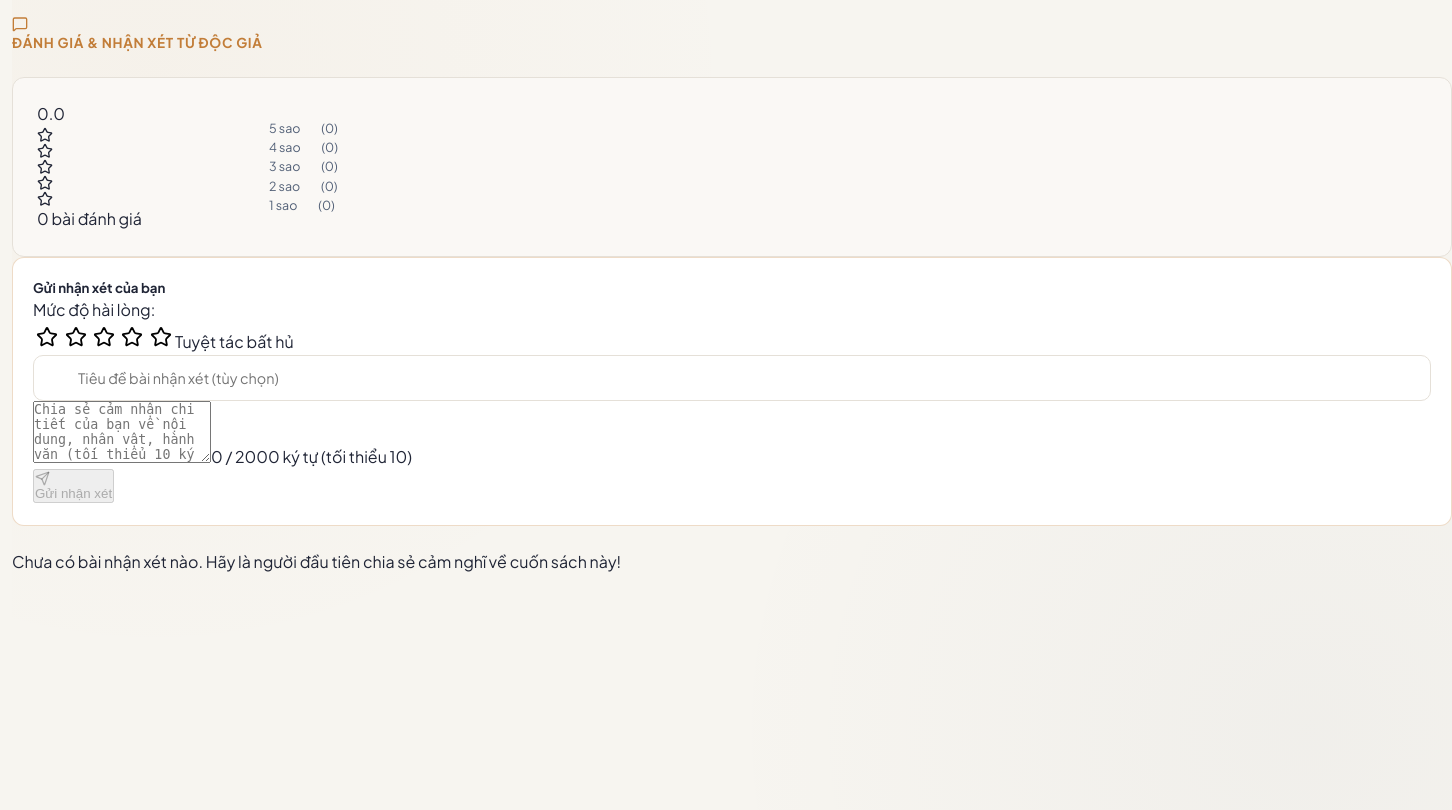
Test case: Phase 5 — Customer Interactions & Inventory Frontend › ReviewSection Component › requires minimum 10 characters for review comment
This screenshot has width=1452, height=810.
Replace the text in the text box with placeholder "Chia sẻ cảm nhận" with "Quá ngắn" at (122, 432), box [33,401,211,463]
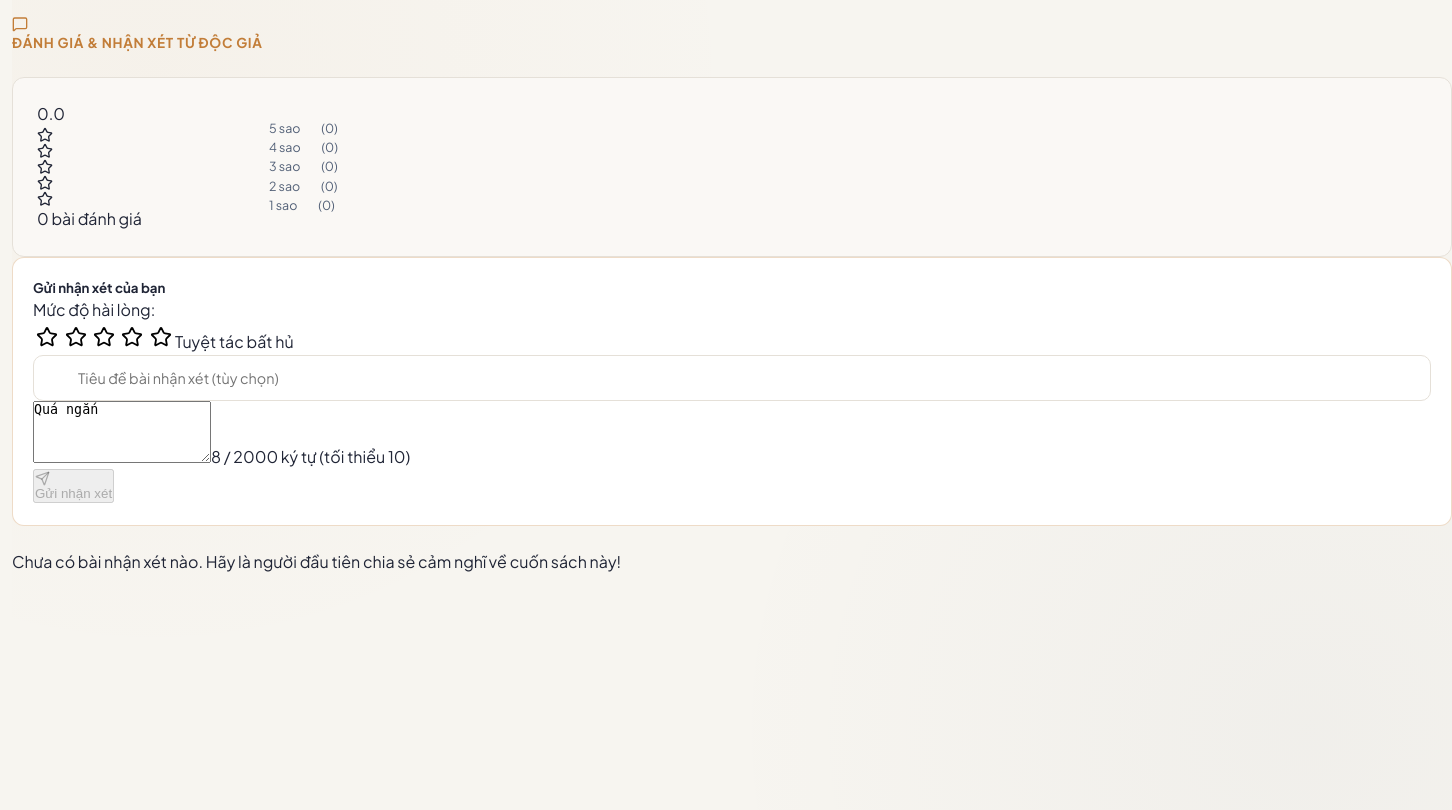
Expected: the button "Gửi nhận xét" is disabled, [33,469,114,503]
# When comment meets the 10-char threshold, button is enabled
Replace the text in the text box with placeholder "Chia sẻ cảm nhận" with "Một tác phẩm văn học rất đáng đọc và suy ngẫm!" at (122, 432), box [33,401,211,463]
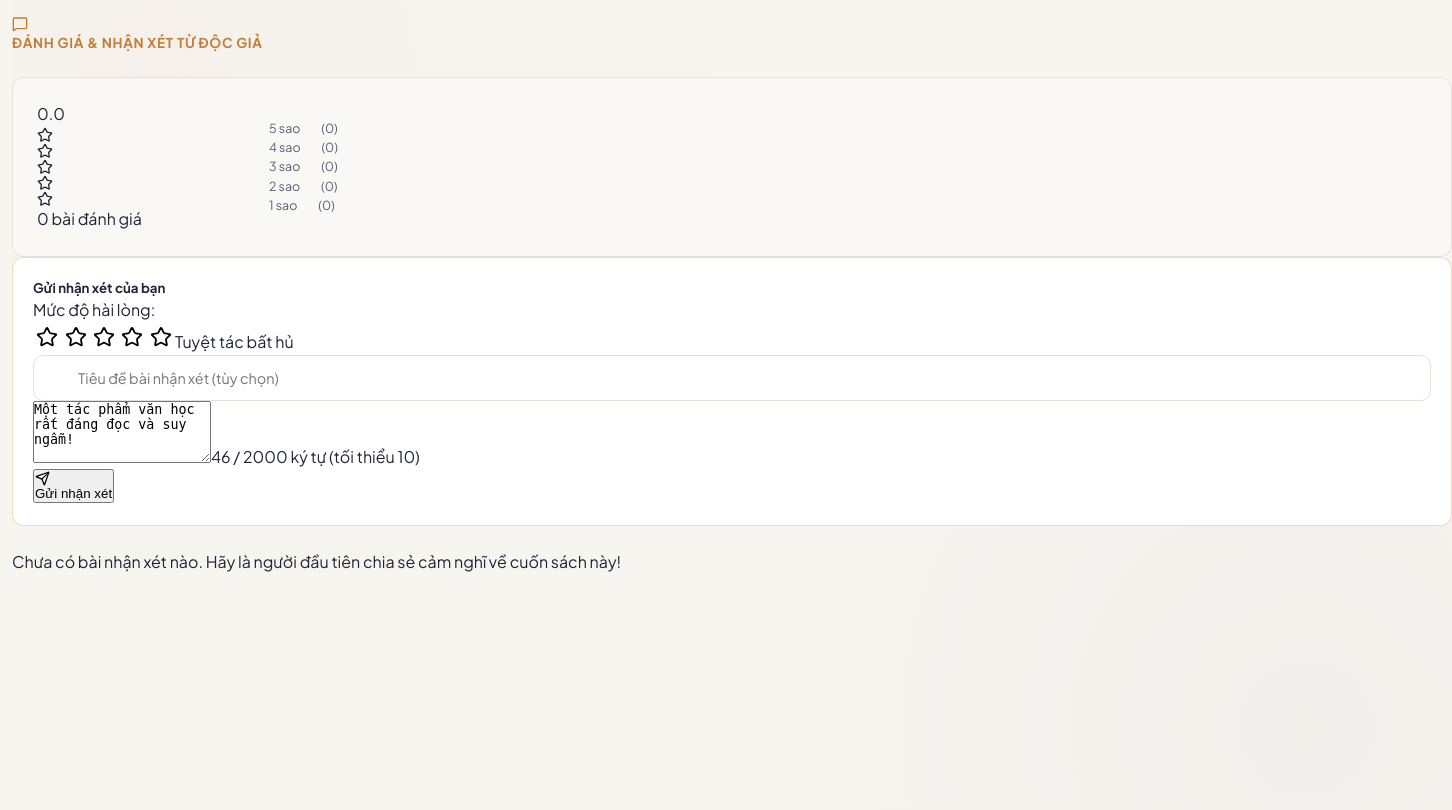
Result: the button "Gửi nhận xét" is enabled at [33,469,114,503]
